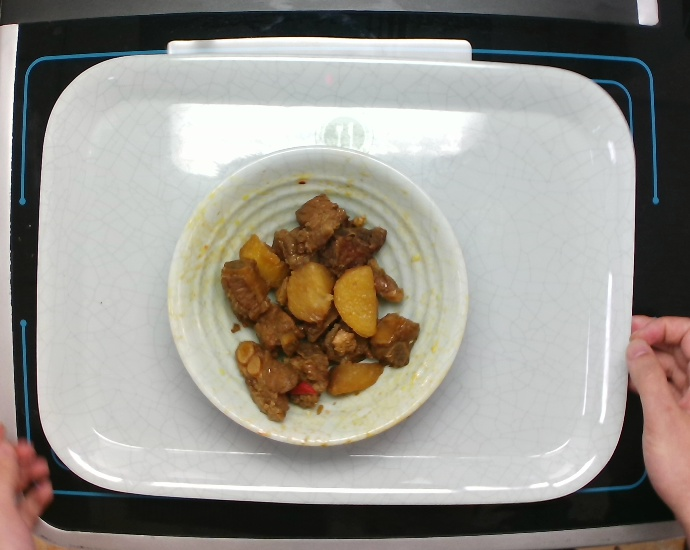JYsf-Xiao_Tang_Wan: (165, 145, 472, 450)
